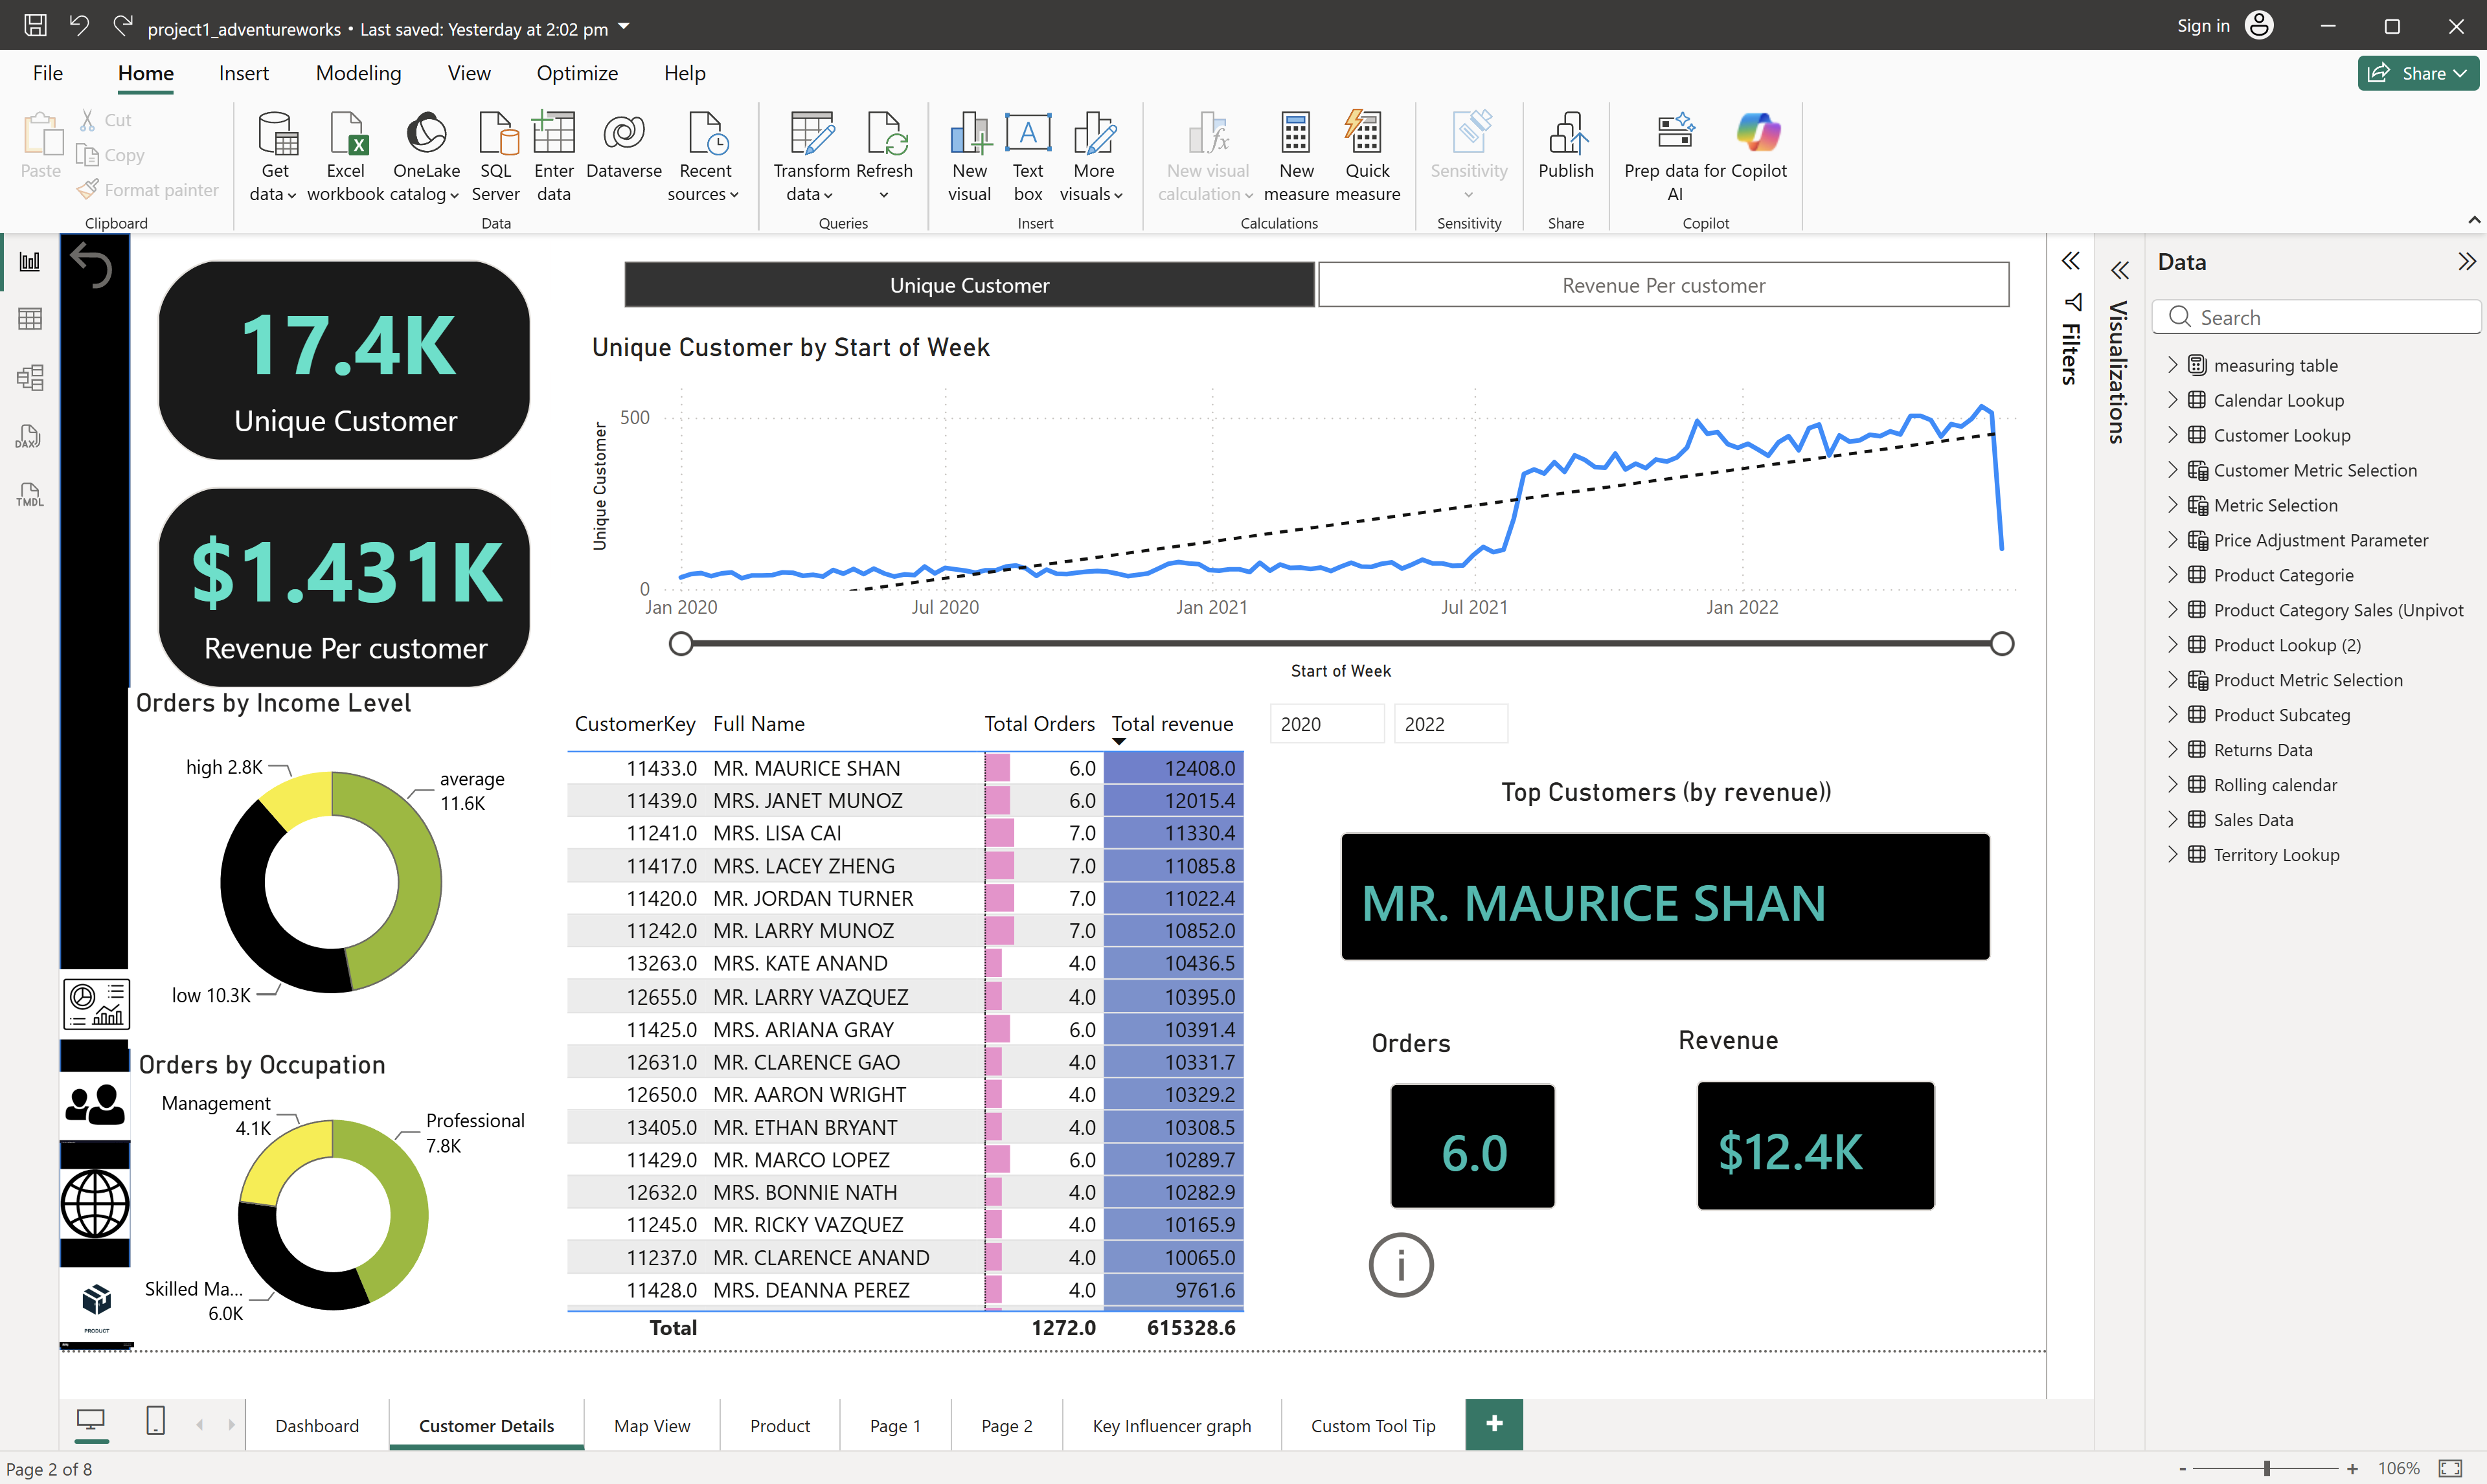

The page's visual inventory and layout, read from the dashboard file:
{"tool":"powerbi","page":{"name":"Customer  Details","canvas":[1280,720],"ordinal":1},"visuals":[{"type":"cardVisual","fields":{"Data":["measuring table.Unique Customer"]},"box":[45.6,0,275.7,164.5],"z":0},{"type":"group","id":"g1","title":"Group 1","box":[809.3,350.3,453.3,136.9],"z":0,"group":"g4"},{"type":"cardVisual","title":"Top Customers (by revenue))","fields":{"Data":["Min(Customer Lookup.Full Name)"]},"box":[809.3,350.3,453.3,136.6],"z":0,"group":"g1"},{"type":"cardVisual","title":"Revenue","fields":{"Data":["measuring table.Total revenue"]},"box":[1038.6,510.1,188.6,137.6],"z":0,"group":"g3"},{"type":"cardVisual","title":"Orders","fields":{"Data":["measuring table.Total Orders"]},"box":[841.2,511.6,141.7,135.1],"z":0,"group":"g2"},{"type":"cardVisual","fields":{"Data":["measuring table.Revenue Per customer"]},"box":[45.6,146.7,275.7,164.5],"z":1000},{"type":"group","id":"g2","title":"Group 1","box":[841.2,511.6,142,135.1],"z":1000,"group":"g4"},{"type":"tableEx","fields":{"Values":["Customer Lookup.CustomerKey","Customer Lookup.Full Name","measuring table.Total Orders","measuring table.Total revenue"]},"box":[321.5,300.8,516.6,419.6],"z":2000},{"type":"group","id":"g3","title":"Group 1","box":[1038.6,510.1,186.6,136.6],"z":2000,"group":"g4"},{"type":"shape","box":[0,0,45.6,720.5],"z":3000},{"type":"donutChart","title":"Orders by Income Level","fields":{"Y":["measuring table.Total Orders"],"Category":["Customer Lookup.Income Level"]},"box":[44.5,293.4,262.3,232.3],"z":4000},{"type":"donutChart","title":"Orders by Occupation","fields":{"Y":["measuring table.Total Orders"],"Category":["Customer Lookup.Occupation"]},"box":[45.6,525.8,261.2,194.5],"z":5000},{"type":"slicer","fields":{"Values":["Customer Metric Selection.Customer Metric Selection"]},"box":[337.8,10.9,942.7,43.6],"z":6000},{"type":"group","id":"g4","title":"Group 2","box":[809.3,350.3,453.5,297.4],"z":7000},{"type":"lineChart","fields":{"Y":["measuring table.Unique Customer"],"Category":["Calendar Lookup.Date Hierarchy 2.Date","Calendar Lookup.Date Hierarchy 2.Year","Calendar Lookup.Date Hierarchy 2.Start of Month","Calendar Lookup.Date Hierarchy 2.Start of Week","Calendar Lookup.Date Hierarchy 2.Day Name"]},"box":[337.8,64.3,942.7,228.9],"z":8000},{"type":"slicer","fields":{"Values":["Calendar Lookup.Year"]},"box":[767.2,293.3,220,51.6],"z":9000},{"type":"image","box":[0,602.6,45.8,44.7],"z":10000},{"type":"image","box":[0,537.3,45.8,52.3],"z":11000},{"type":"image","box":[0,471.9,48,51.2],"z":12000},{"type":"image","box":[0,665.9,48,52.3],"z":13000},{"type":"actionButton","box":[837.8,638.2,58.4,54.3],"z":14000},{"type":"actionButton","box":[0,0,44.8,40.7],"z":15000}]}

Visuals, with their boxes on the page's 1280x720 design canvas (x1, y1, x2, y2). These are canvas units, not pixel positions in the 2487x1484 screenshot, which may show the page scaled, cropped or inside an application window:
cardVisual - measuring table.Unique Customer: <box>46,0,321,164</box>
"Group 1" group: <box>809,350,1263,487</box>
"Top Customers (by revenue))" cardVisual: <box>809,350,1263,487</box>
"Revenue" cardVisual: <box>1039,510,1227,648</box>
"Orders" cardVisual: <box>841,512,983,647</box>
cardVisual - measuring table.Revenue Per customer: <box>46,147,321,311</box>
"Group 1" group: <box>841,512,983,647</box>
tableEx - Customer Lookup.CustomerKey x Customer Lookup.Full Name: <box>322,301,838,720</box>
"Group 1" group: <box>1039,510,1225,647</box>
shape: <box>0,0,46,720</box>
"Orders by Income Level" donutChart: <box>44,293,307,526</box>
"Orders by Occupation" donutChart: <box>46,526,307,720</box>
slicer - Customer Metric Selection.Customer Metric Selection: <box>338,11,1280,54</box>
"Group 2" group: <box>809,350,1263,648</box>
lineChart - measuring table.Unique Customer x Calendar Lookup.Date Hierarchy 2.Date: <box>338,64,1280,293</box>
slicer - Calendar Lookup.Year: <box>767,293,987,345</box>
image: <box>0,603,46,647</box>
image: <box>0,537,46,590</box>
image: <box>0,472,48,523</box>
image: <box>0,666,48,718</box>
actionButton: <box>838,638,896,692</box>
actionButton: <box>0,0,45,41</box>
